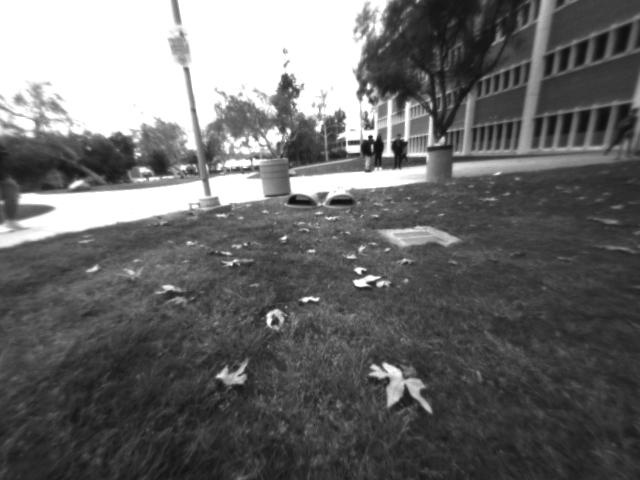trashcan: (425, 145, 457, 193), (258, 157, 291, 201)
